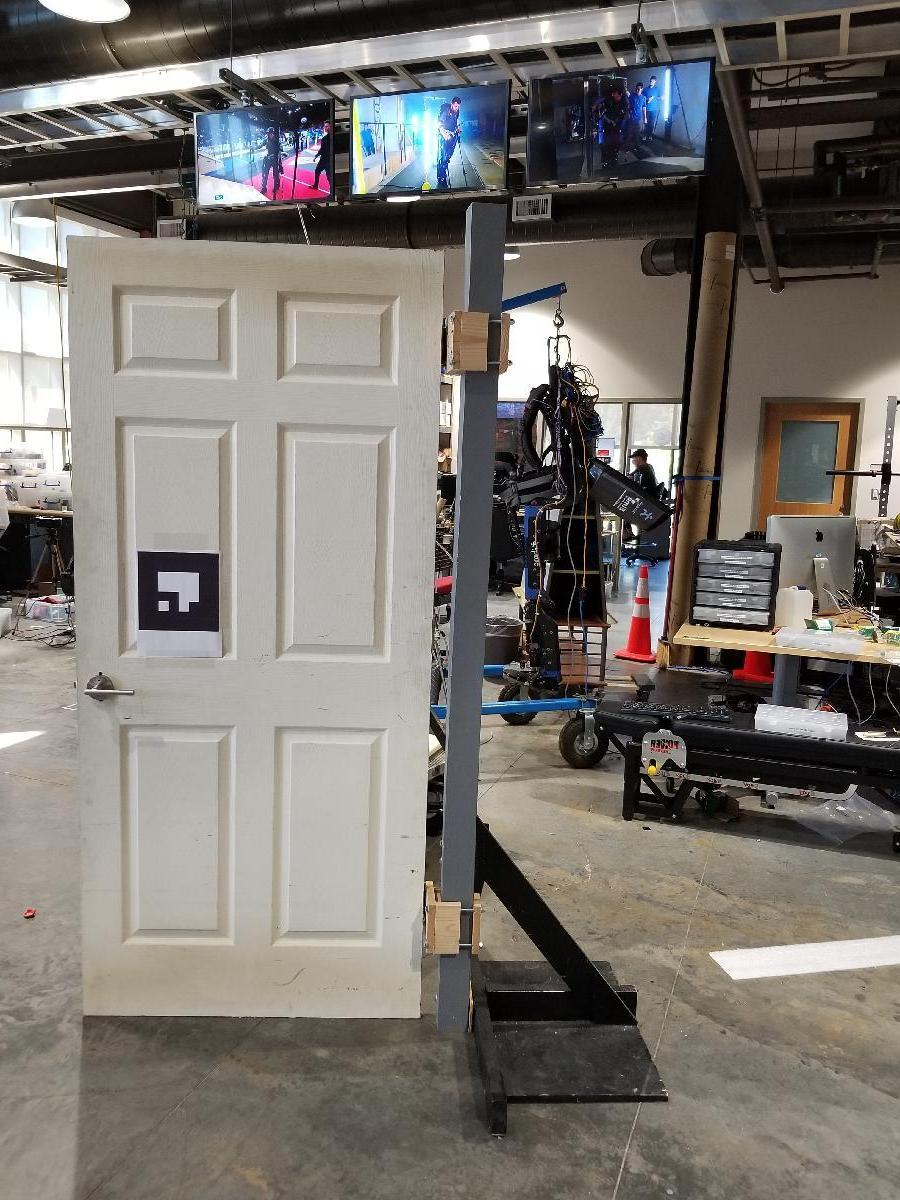door: (74, 248, 442, 1019)
handle: (79, 670, 139, 707)
